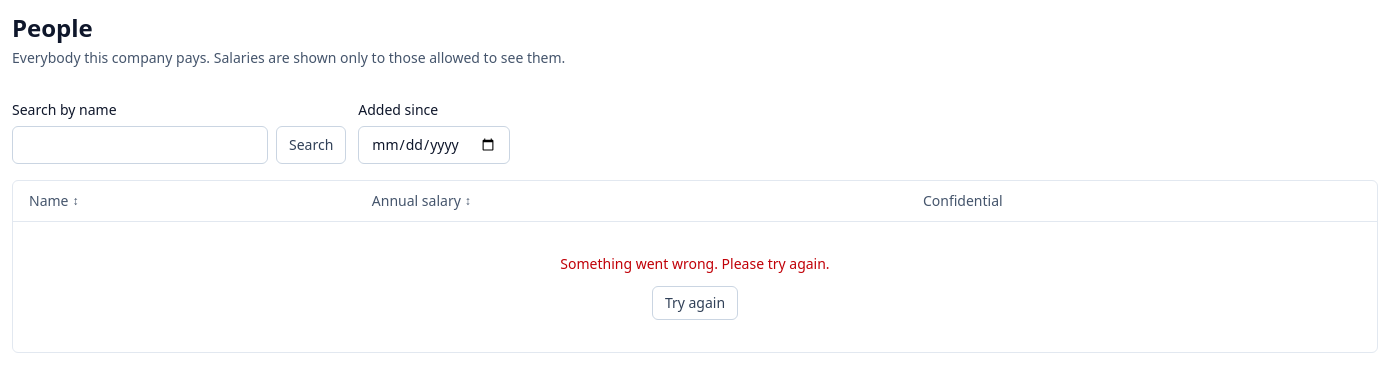
EmployeesPage › the three states › shows the failure and offers a way to try again
Expected: the message shows "Something went wrong", [560,254,830,273]
Click the button "Try again" at (695, 303), box [652,286,738,320]
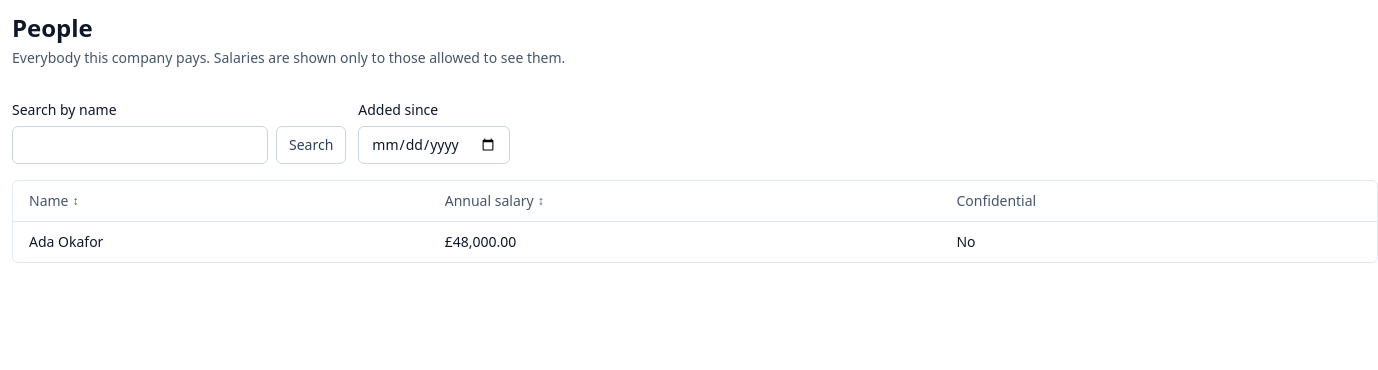
Now the text "Ada Okafor" is shown, box [13,222,429,262]
